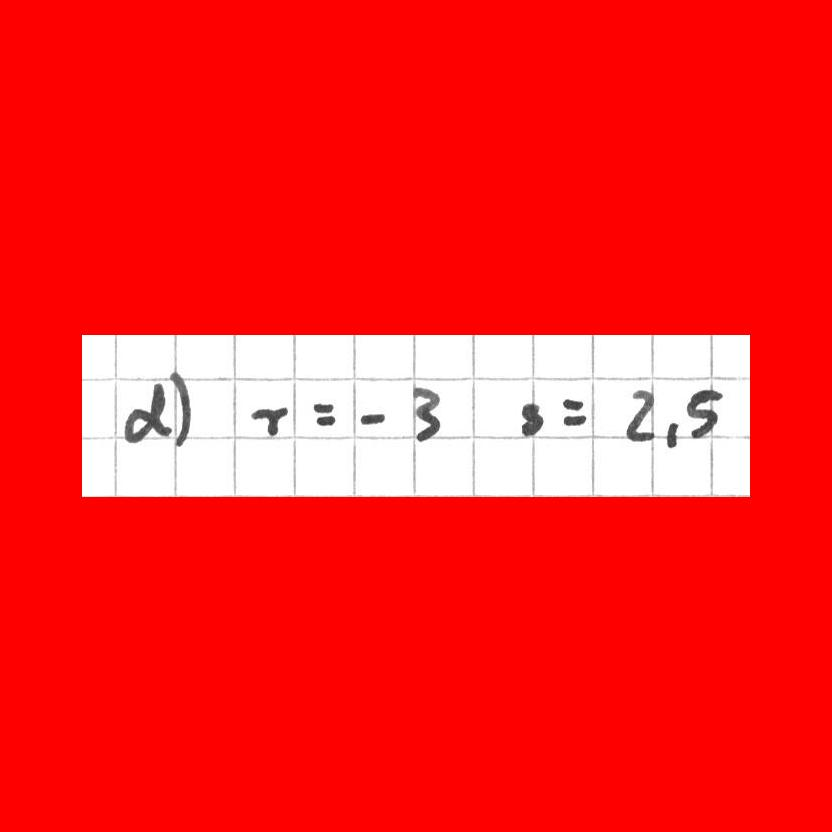Char: (114, 379, 171, 448), (405, 375, 446, 449), (681, 383, 728, 441), (617, 380, 658, 446), (169, 367, 199, 455), (247, 399, 293, 439), (513, 394, 547, 443), (303, 395, 345, 434), (354, 404, 397, 432), (556, 388, 583, 429), (662, 414, 680, 449)
